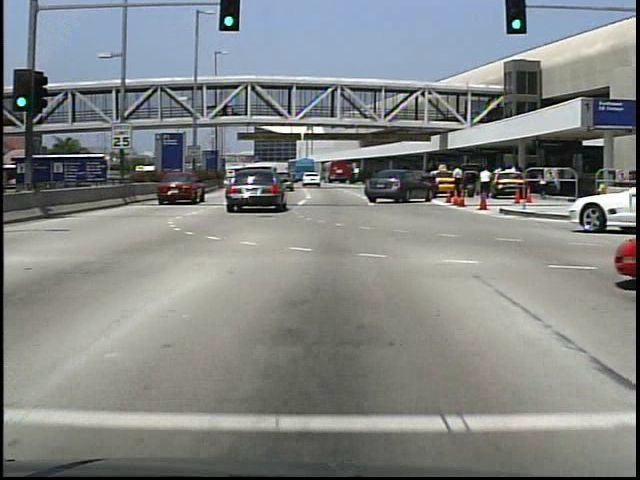person: (451, 166, 468, 205), (476, 167, 493, 202), (534, 168, 550, 203), (220, 99, 229, 119)
